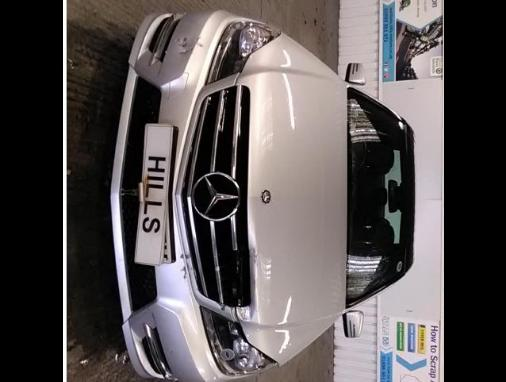Broken part: (179, 85, 249, 308), (201, 307, 272, 376)
Dent: (246, 225, 258, 323), (174, 36, 199, 56), (234, 304, 254, 326), (216, 302, 226, 311)
Paint chip: (178, 265, 186, 280), (178, 254, 184, 260), (220, 306, 224, 312)
Scratch: (176, 46, 194, 55), (177, 37, 188, 49), (183, 71, 189, 93), (251, 248, 257, 265), (165, 82, 170, 99), (229, 308, 234, 320), (252, 278, 255, 292), (195, 36, 201, 42), (197, 43, 202, 48), (174, 38, 179, 43)
